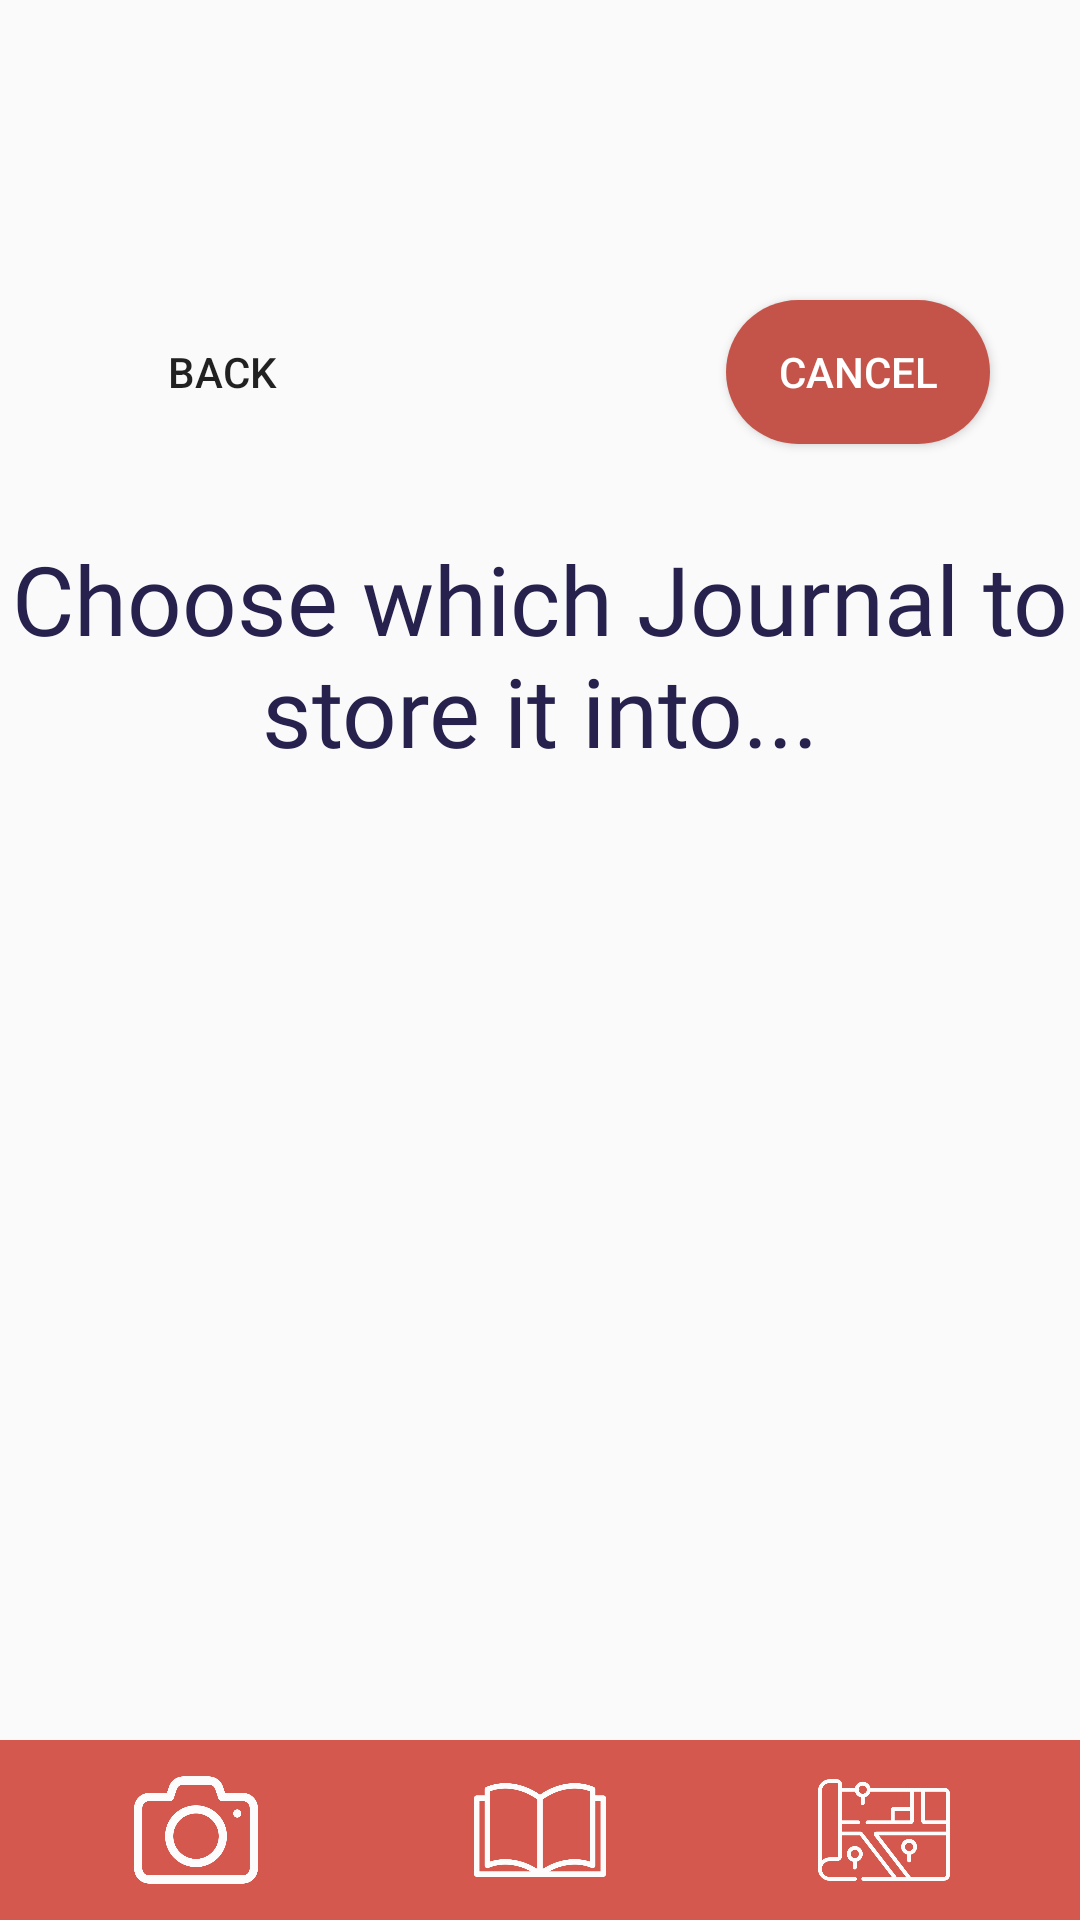

Icon click points for this 1080w x 1920h phone screenshot, format (x,y):
camera: (196,1830)
journal: (540,1830)
map: (884,1830)
